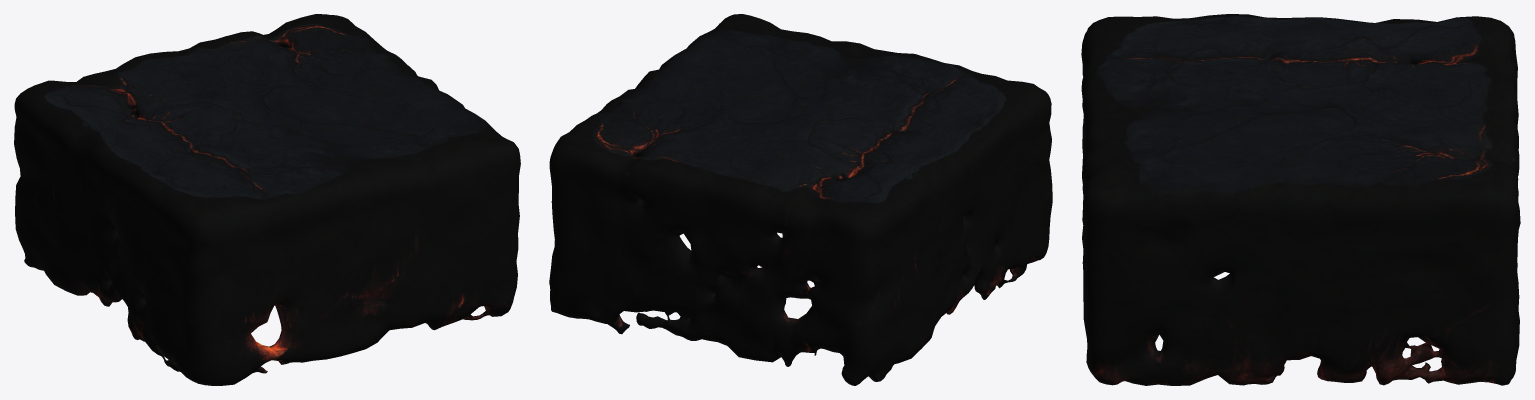
File: Terrain_FBX.fbx
The picture shows the model from 3 angles, left to right: view 1: azimuth 30°, elevation 25°; view 2: azimuth 150°, elevation 25°; view 3: azimuth 270°, elevation 25°; orthographic projection. The views are drawn at different scales.
Visible parts, largest first — view 1: Mesh1_Mesh1.018; view 2: Mesh1_Mesh1.018; view 3: Mesh1_Mesh1.018.
Boxes of the visible parts, x1,y1,x2,y2 form: Mesh1_Mesh1.018: (14, 14, 520, 385); Mesh1_Mesh1.018: (549, 14, 1052, 385); Mesh1_Mesh1.018: (1081, 14, 1520, 385).
Size of the model in its own units: 197 by 101 by 197.
1 material, 1 textured.
